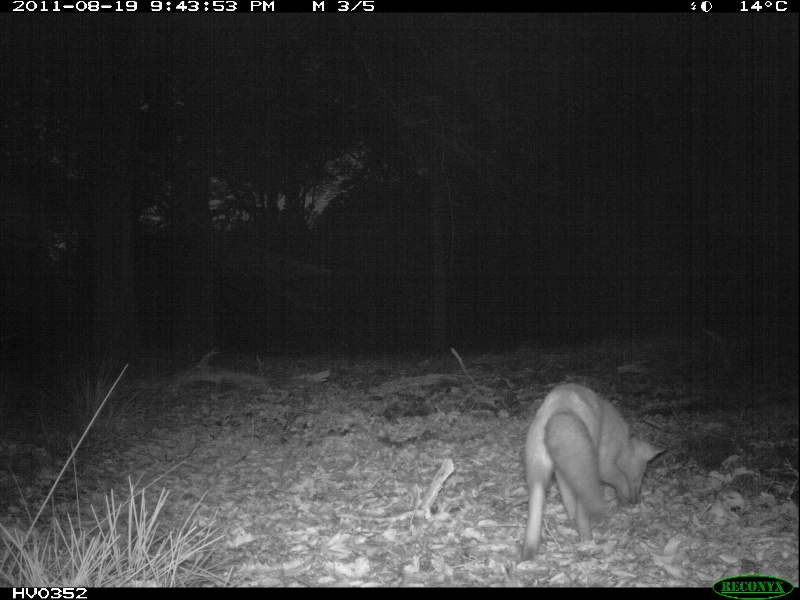fox: (520, 381, 663, 564)
